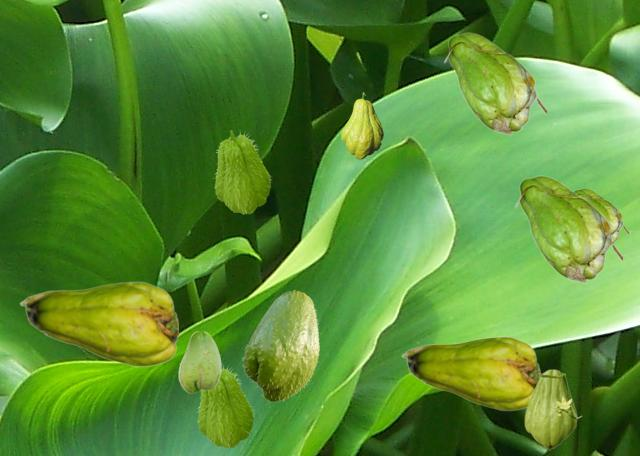sayote: (19, 281, 177, 366), (514, 175, 621, 282), (443, 32, 545, 134), (401, 336, 539, 410), (241, 290, 319, 402), (213, 129, 271, 213), (196, 363, 254, 447), (524, 369, 581, 449), (574, 188, 627, 242), (341, 92, 382, 158), (178, 331, 220, 392)
